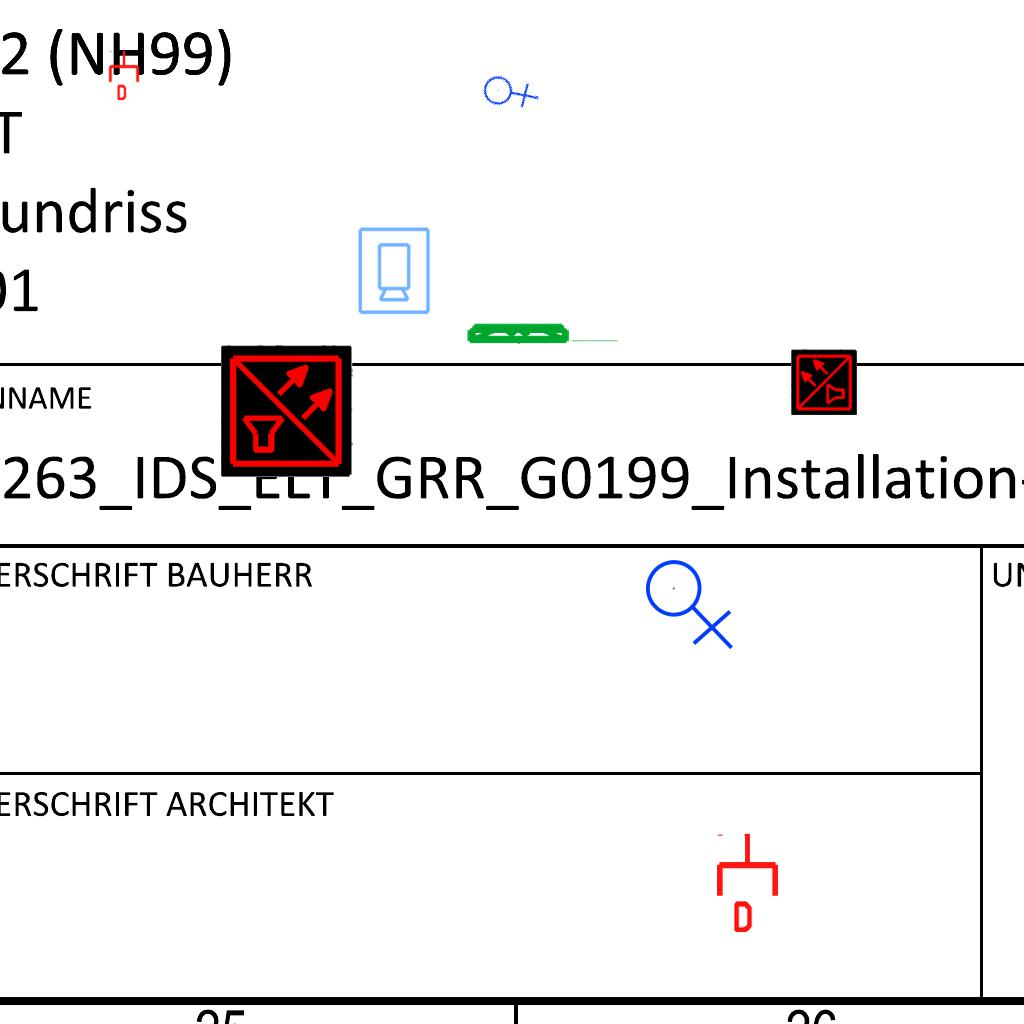Datenanschluss_einfach: (713, 832, 782, 932), (107, 50, 141, 100)
Elektroanschluss_allgemein_230V_Geraeteanschlussdose_230V: (644, 551, 738, 650), (475, 56, 542, 125)
KFO_Kamera_mit_Festobjektiv: (355, 225, 432, 316)
OKW_Multisensormelder_(Kombination_optischer_Rauch-Kahlenmonoxid_Waerme-Melder): (221, 345, 353, 477), (791, 349, 857, 415)
Sicherheitsleuchte_Wandeinbau: (464, 320, 623, 345)
